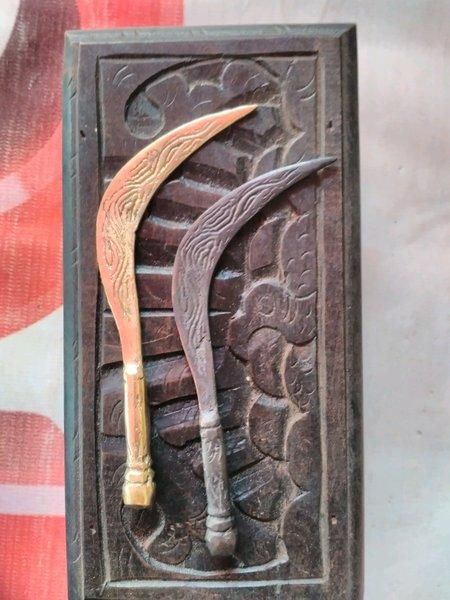foice: (92, 105, 264, 508), (178, 156, 336, 574)
